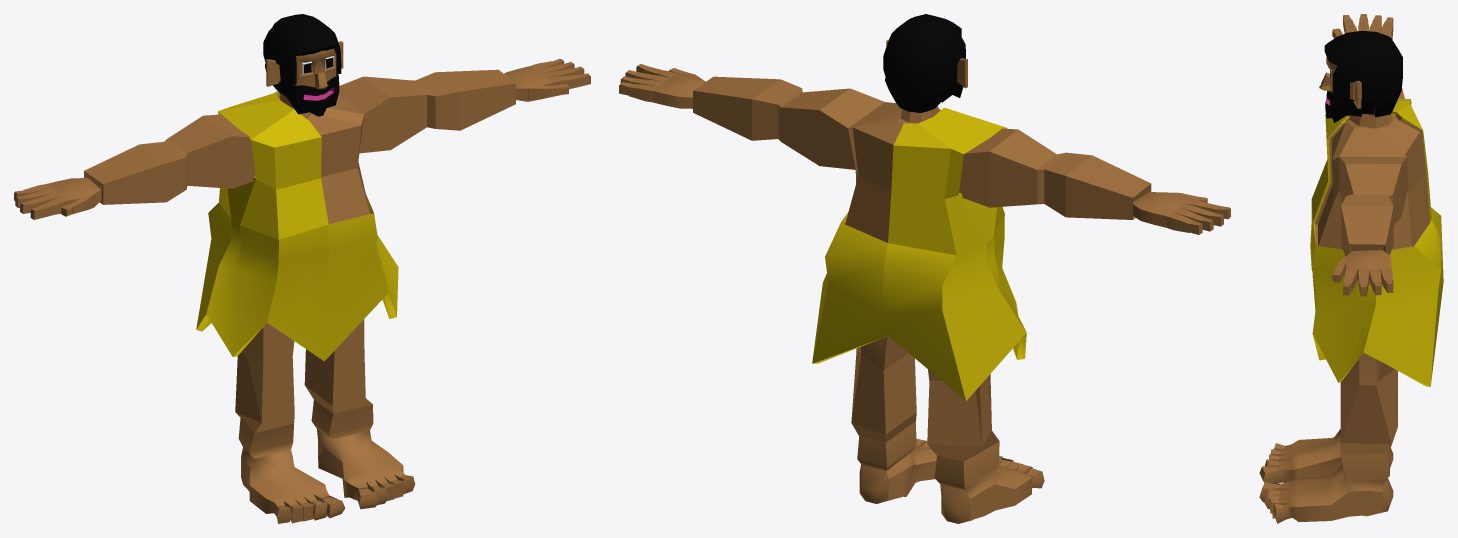
File: coloured_cave_man.fbx
3 views of the same model, side by side, from view 1: azimuth 30°, elevation 25°; view 2: azimuth 150°, elevation 25°; view 3: azimuth 270°, elevation 25° (orthographic). The views are drawn at different scales.
Visible parts, largest first — view 1: Caveman; view 2: Caveman; view 3: Caveman.
Boxes of the visible parts, left/top/right/bottom form: Caveman: left=14, top=14, right=590, bottom=523; Caveman: left=619, top=14, right=1230, bottom=523; Caveman: left=1259, top=14, right=1443, bottom=523.
Bounding box in the file's own units: 2.28 × 1.78 × 0.6474.
